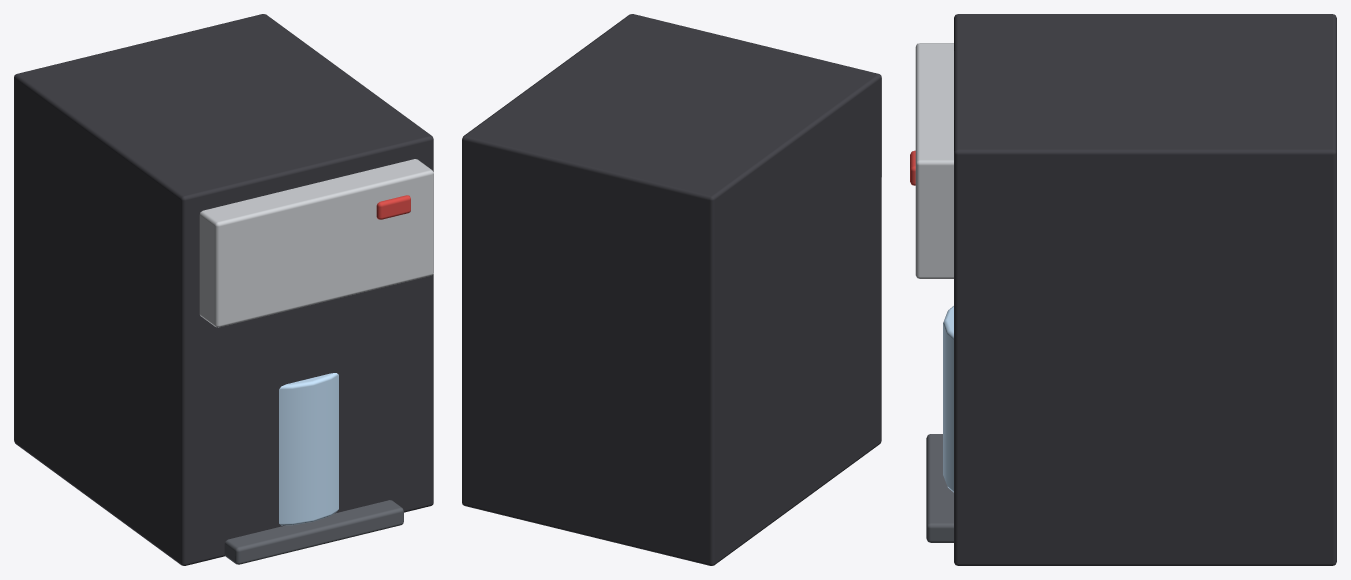
File: SM_CoffeeMachine.fbx
The picture shows the model from 3 angles, left to right: view 1: azimuth 30°, elevation 25°; view 2: azimuth 150°, elevation 25°; view 3: azimuth 270°, elevation 25°; orthographic projection. The views are drawn at different scales.
Parts seen in each view (by area): view 1: SM_CoffeeMachine; view 2: SM_CoffeeMachine; view 3: SM_CoffeeMachine.
Boxes of the visible parts, <box> form: SM_CoffeeMachine: <box>14,14,433,565</box>; SM_CoffeeMachine: <box>462,14,881,565</box>; SM_CoffeeMachine: <box>910,14,1336,565</box>.
Size of the model in its own units: 0.3 by 0.42 by 0.39.
